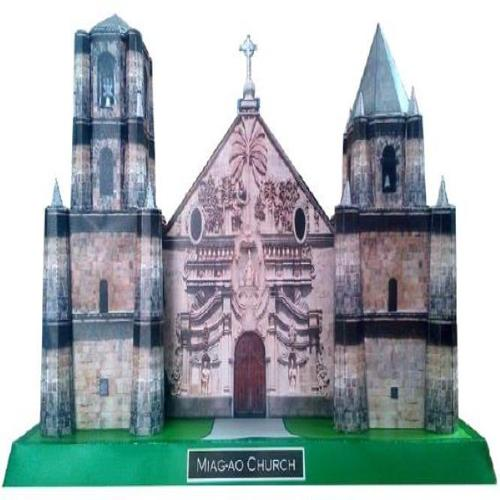Miagao Church: (26, 6, 474, 441)
